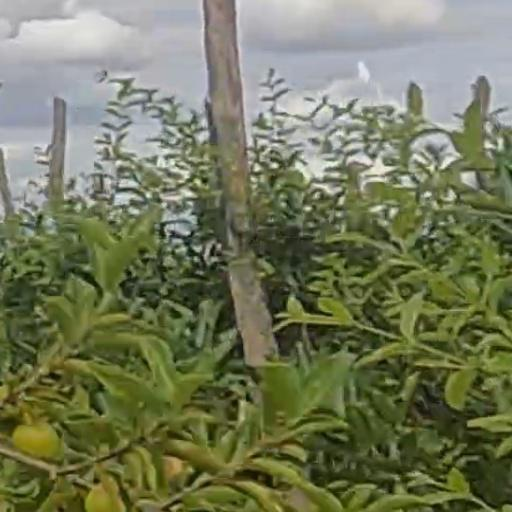acerola_verde: (16, 423, 60, 458)
